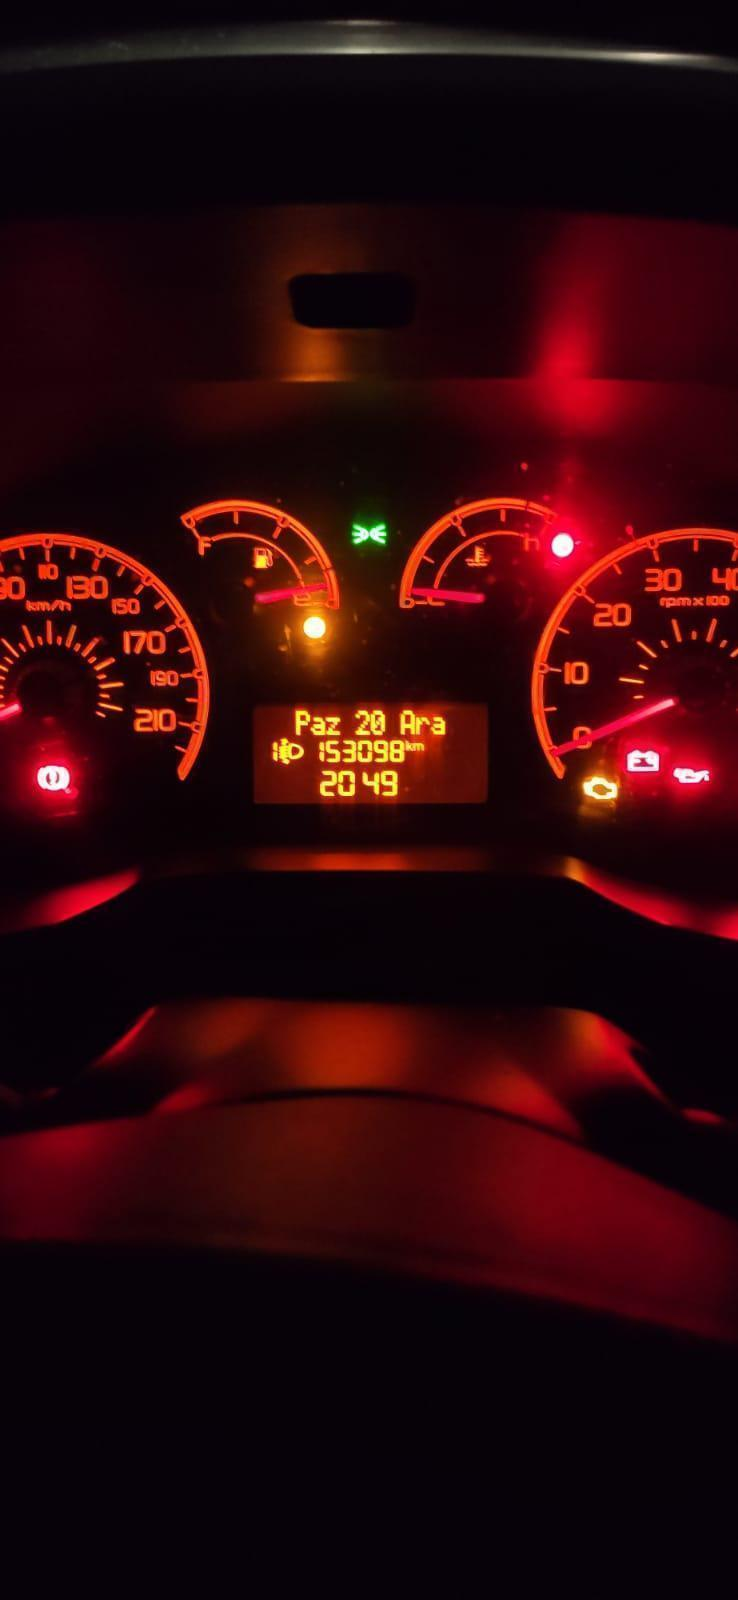0: (336, 768, 354, 799), (370, 709, 385, 735), (357, 737, 371, 764)
1: (317, 739, 325, 766), (270, 739, 278, 764)
2: (319, 768, 335, 797), (354, 708, 370, 736)
3: (342, 738, 356, 764)
4: (361, 769, 379, 796)
5: (325, 739, 341, 764)
8: (389, 739, 404, 764)
9: (380, 769, 400, 797), (373, 739, 388, 764)
X: (294, 708, 310, 736), (399, 708, 415, 736), (325, 715, 343, 736), (311, 715, 325, 736), (415, 714, 429, 735), (431, 717, 445, 735), (405, 738, 414, 752), (414, 741, 425, 752)
odometer: (251, 701, 494, 807)
